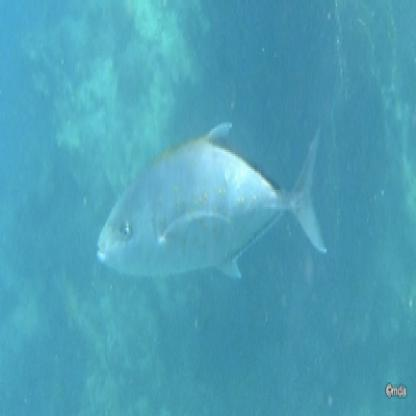jack: (85, 119, 333, 286)
